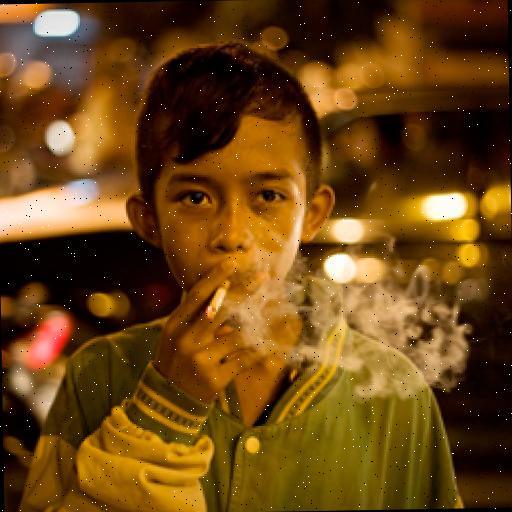merokok: (158, 168, 300, 365)
